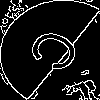C: (25, 25, 93, 82)
